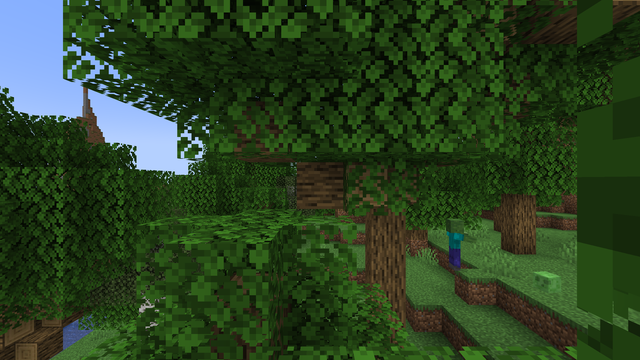slimes: (532, 270, 561, 291)
zombies: (443, 219, 465, 270)
